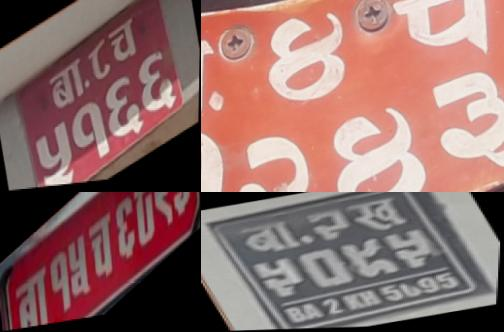0: (287, 244, 363, 294)
1: (201, 112, 251, 192), (67, 94, 113, 178), (47, 242, 74, 326)
2: (219, 112, 333, 192), (300, 207, 366, 244)
3: (420, 58, 504, 192), (168, 192, 192, 228)
4: (244, 0, 370, 124), (310, 83, 442, 192)
5: (32, 112, 80, 189), (247, 254, 319, 302), (380, 227, 451, 275), (64, 229, 94, 309)
6: (100, 67, 147, 157), (135, 43, 179, 127), (112, 193, 138, 272)
8: (131, 192, 158, 257), (84, 34, 115, 90)
9: (333, 233, 410, 285), (149, 192, 175, 241)
ba: (229, 216, 310, 258), (45, 56, 89, 120), (15, 264, 50, 330)
cha: (86, 210, 117, 295), (106, 9, 145, 76)
ja: (201, 9, 240, 145)
kha: (341, 196, 417, 239)
pa: (379, 0, 504, 92)
